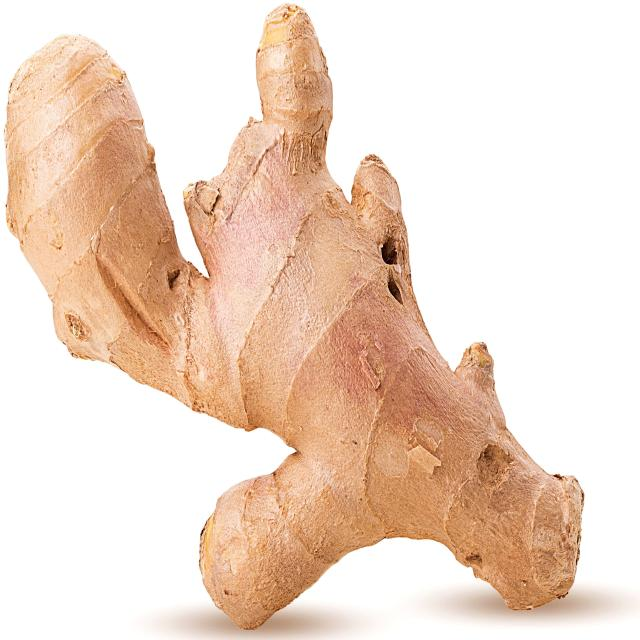ginger-root: (3, 4, 601, 631)
